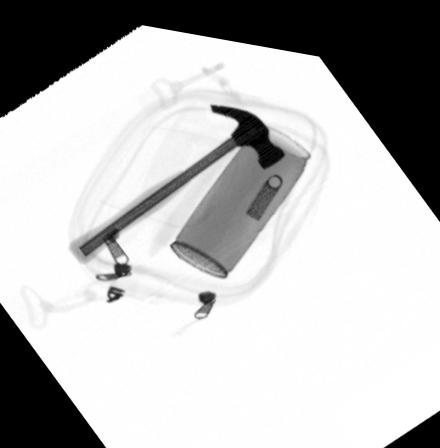Hammer: (65, 95, 285, 261)
